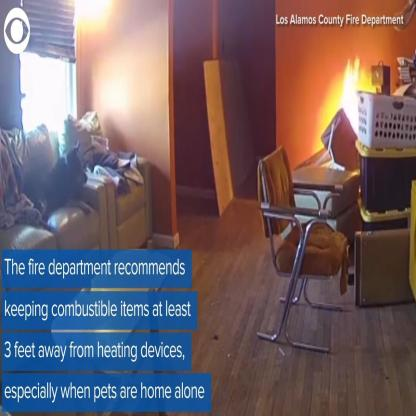fire: (342, 52, 375, 139)
